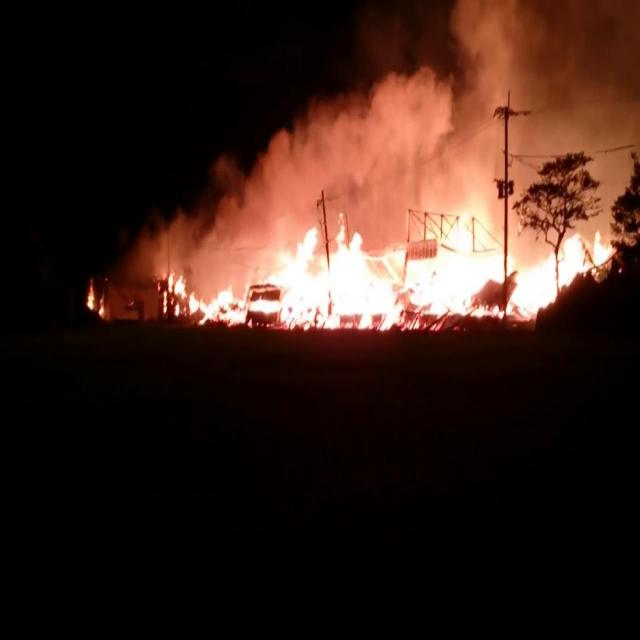fire: (170, 193, 606, 333)
